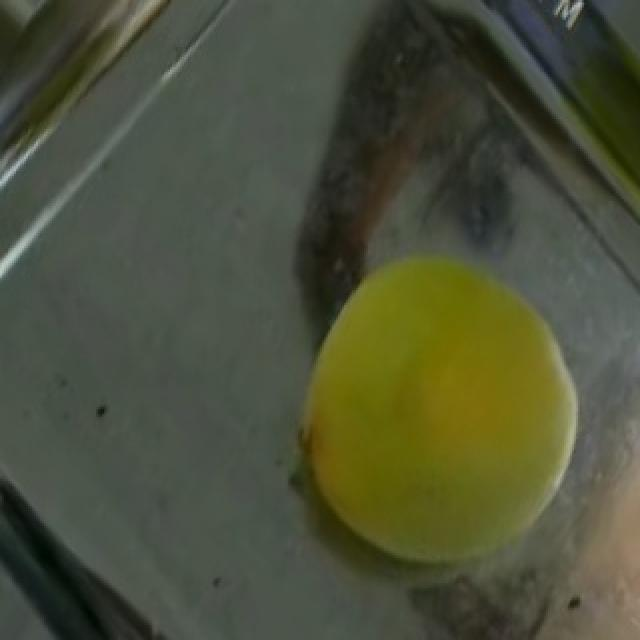fruit: (250, 176, 640, 623)
